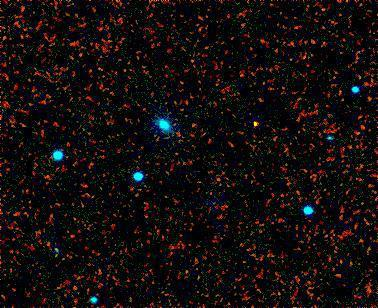star: (244, 112, 274, 142)
